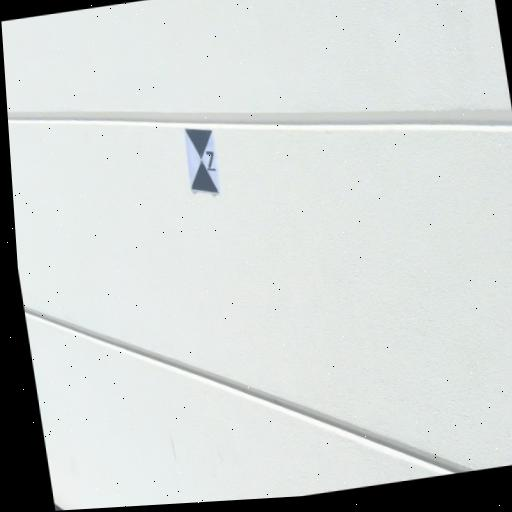target7: (185, 128, 221, 195)
